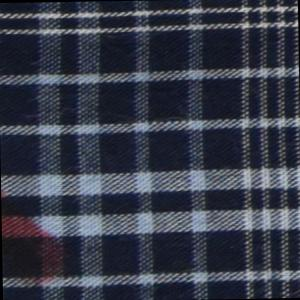Stain: (2, 189, 68, 290)
